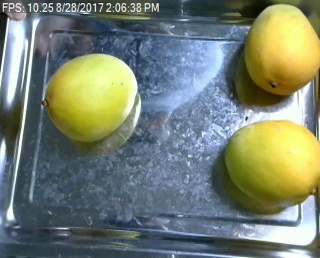Mango: (220, 117, 320, 205), (42, 51, 136, 142), (243, 4, 320, 96)
